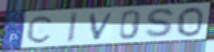0: (118, 9, 143, 41)
C: (25, 14, 56, 45)
I: (66, 11, 80, 45)
O: (176, 6, 205, 38)
S: (143, 7, 177, 40)
V: (88, 11, 117, 42)
